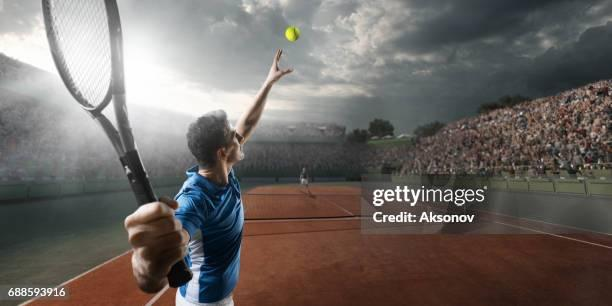ball_tennis: (286, 26, 301, 41)
